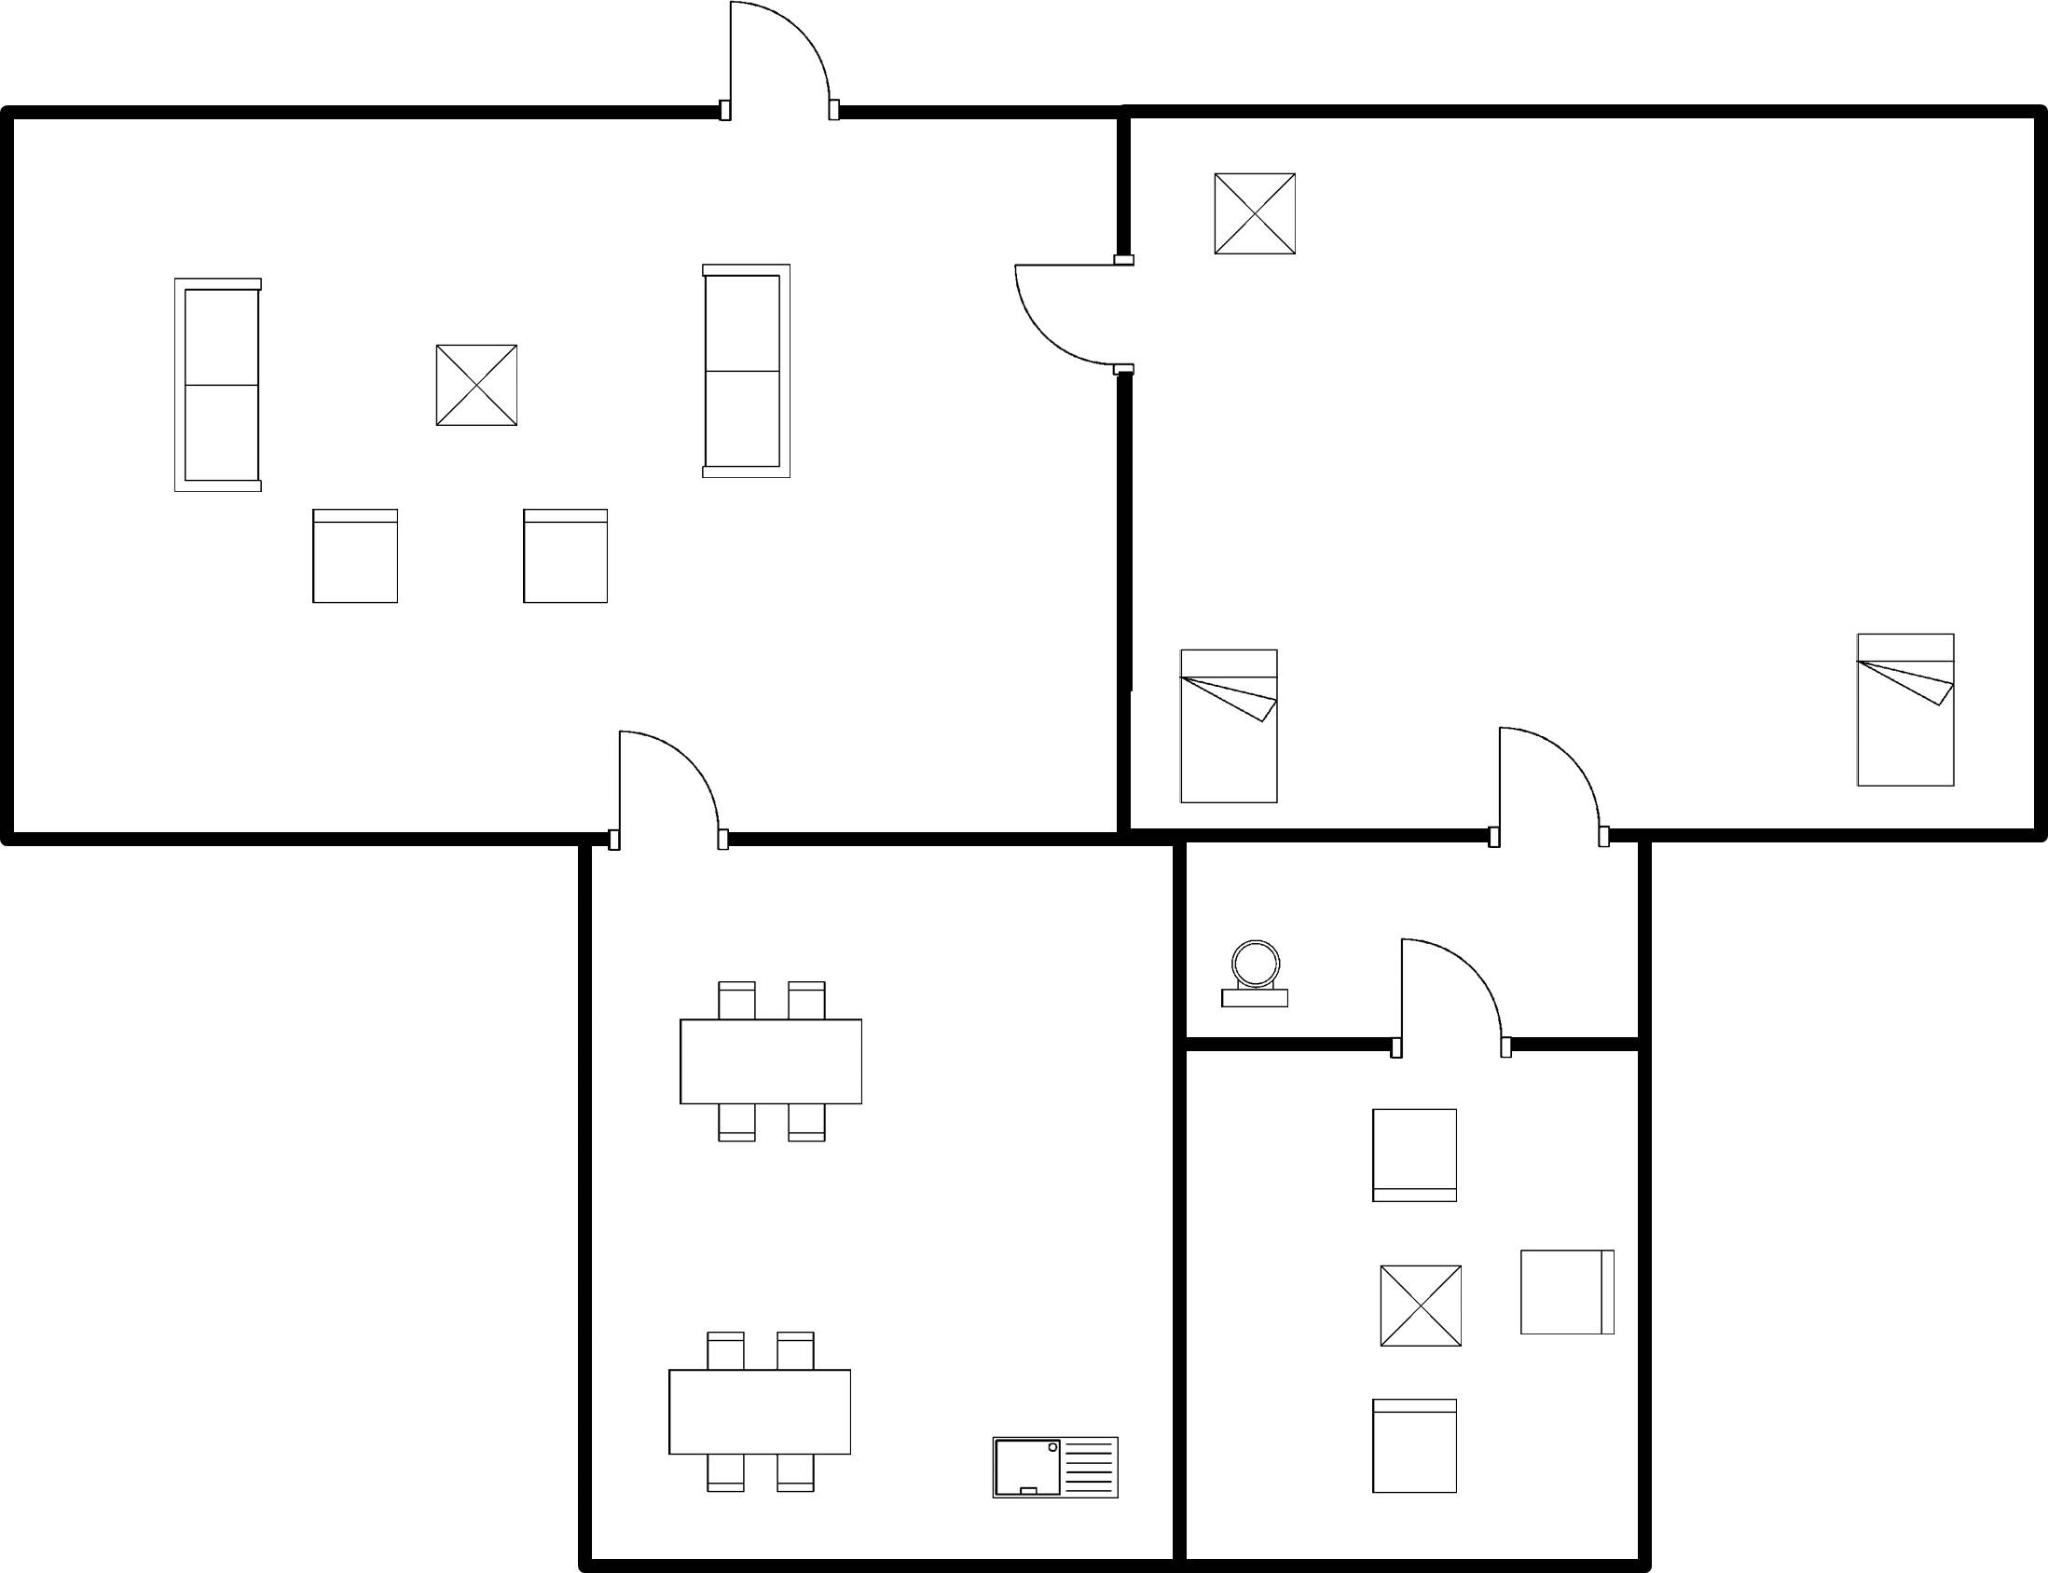bed: (1843, 621, 1969, 798), (1168, 634, 1288, 813)
dining_table: (671, 970, 879, 1152), (656, 1317, 864, 1499)
sink: (981, 1424, 1130, 1512)
sofa: (692, 253, 801, 489), (167, 268, 271, 502)
toilet: (1206, 932, 1306, 1024)
